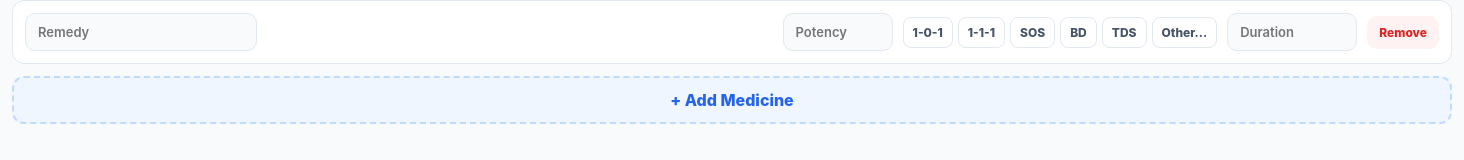
PrescriptionEditor — Favorite Medicines › surfaces a previously favorited remedy as a suggestion on a new, empty row
Earlier steps of the test are not shown.
Focus the field with placeholder "Remedy" at (141, 32), box [25,13,257,51]
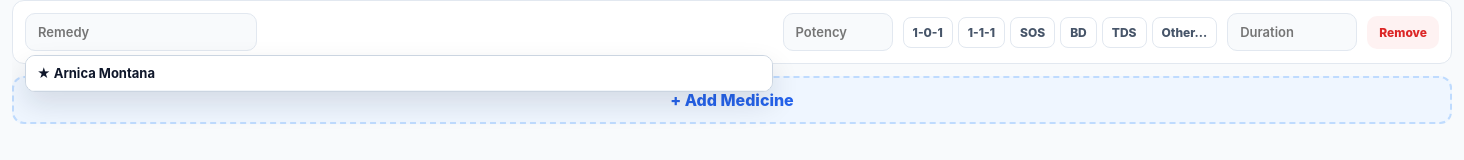
Now the button "★ Arnica Montana" is shown, box [26,56,772,91]
